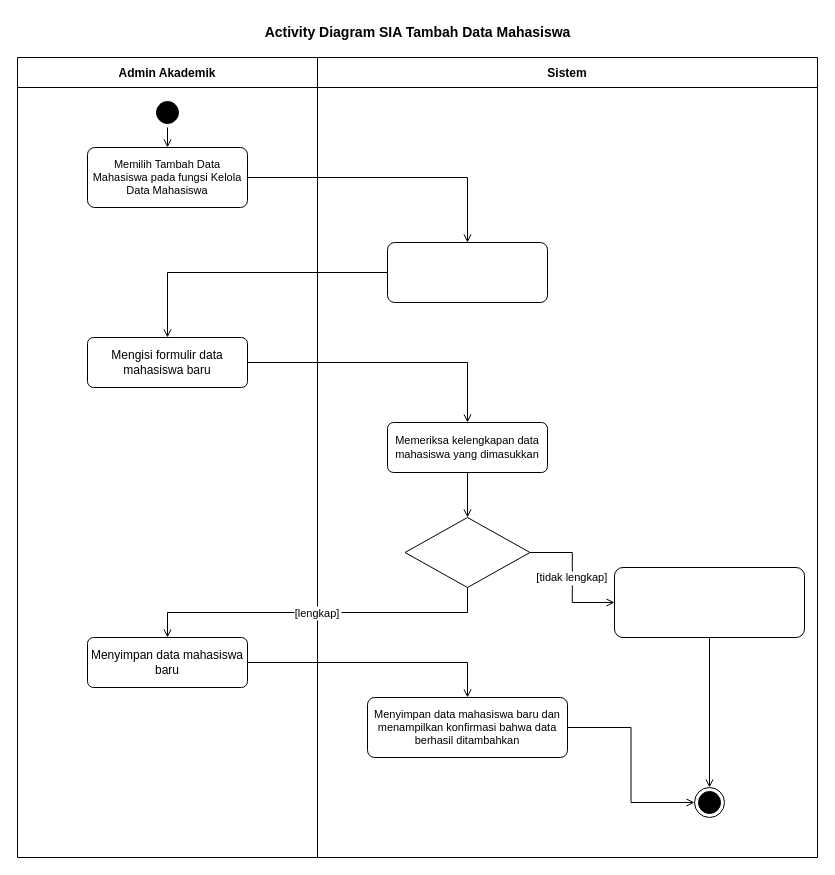
Some shapes in this 835 by 875 pixel diagram are drawn without their labels. The centre of each missing label's shape, as x and y in pixels:
"Data mahasiswa lengkap?" goes at pixel 467 552.
"Menjalankan proses umum pengelolaan data mahasiswa (lihat SIA-UC10)" goes at pixel 467 272.
"Menolak penyimpanan dan meminta Admin Akademik melengkapi data mahasiswa" goes at pixel 709 602.
